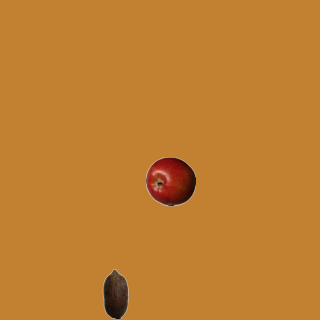Apple Braeburn: (145, 156, 195, 206)
Nut Pecan: (90, 268, 140, 318)
